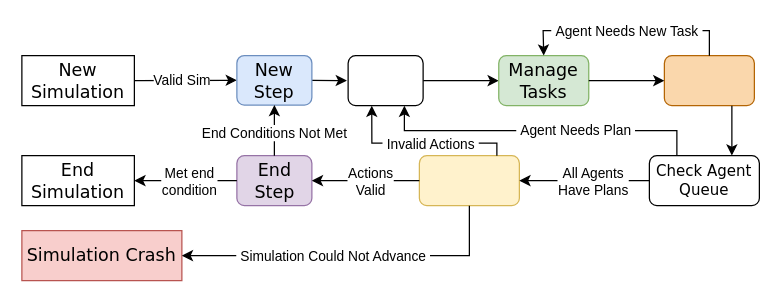
Some shapes in this 781 by 303 pixel diagram are drawn without their labels. Here are the shapes that lost their labels. From the top down, the centre of each, then its label:
At [385,80]: "Select Agent".
At [708,80]: "Plan Actions".
At [468,180]: "Execute Actions".
